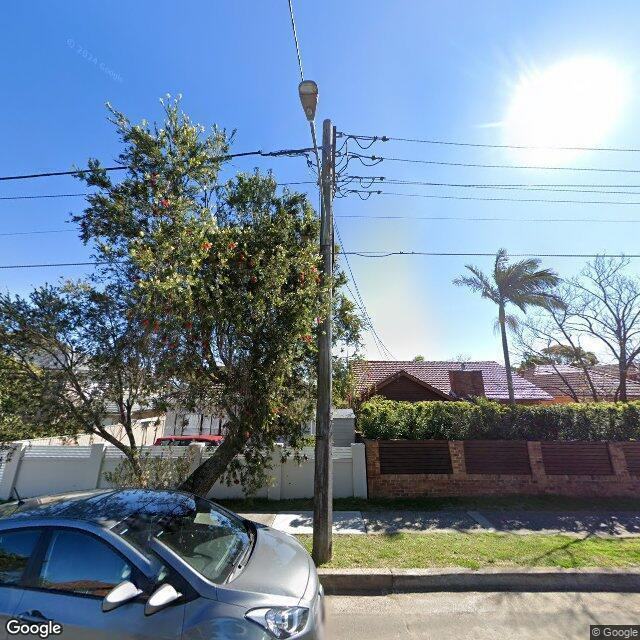crossarm: (331, 125, 337, 193)
streetlight: (297, 79, 333, 231)
timber-pole: (311, 118, 334, 568)
